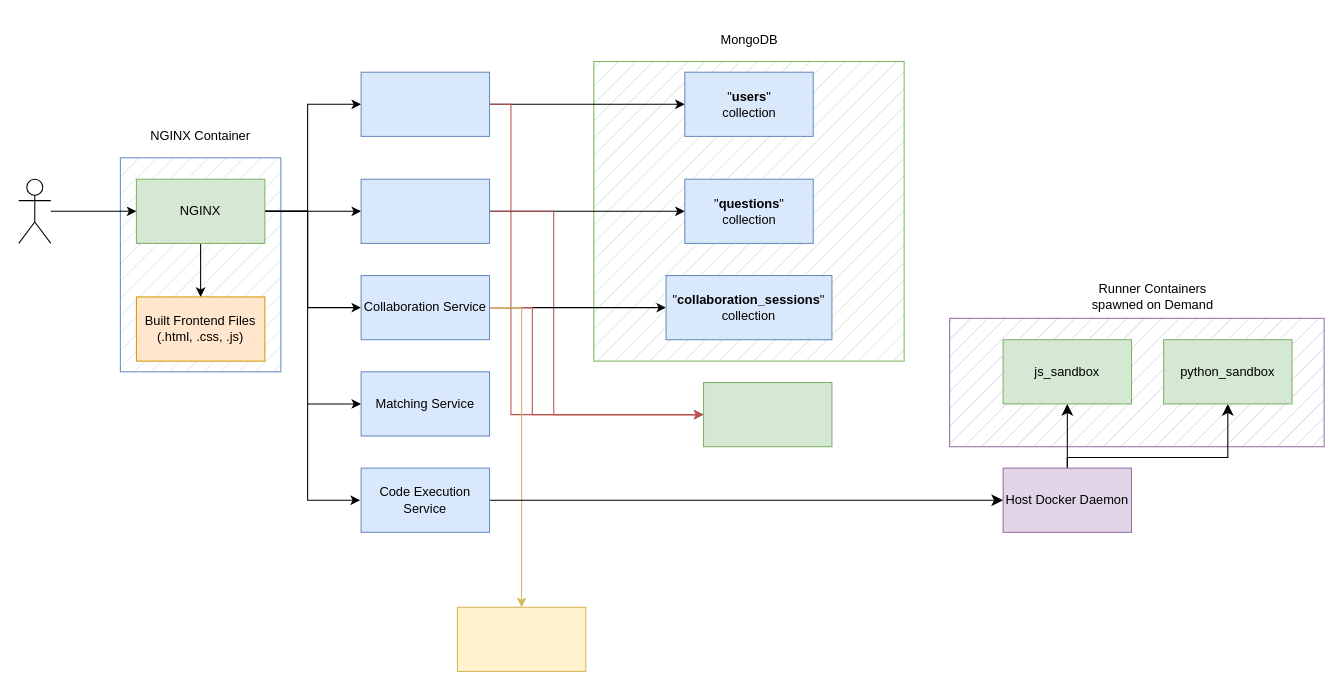
Image size: 1343x690. Some labels were removed from this diagram. The centre of each missing label's shape, as x and y in pixels:
"External API (OpenAI)" belongs at point (521, 638).
"Question Service" belongs at point (425, 210).
"Redis" belongs at point (767, 414).
"User" belongs at point (34, 210).
"User Service" belongs at point (425, 103).
